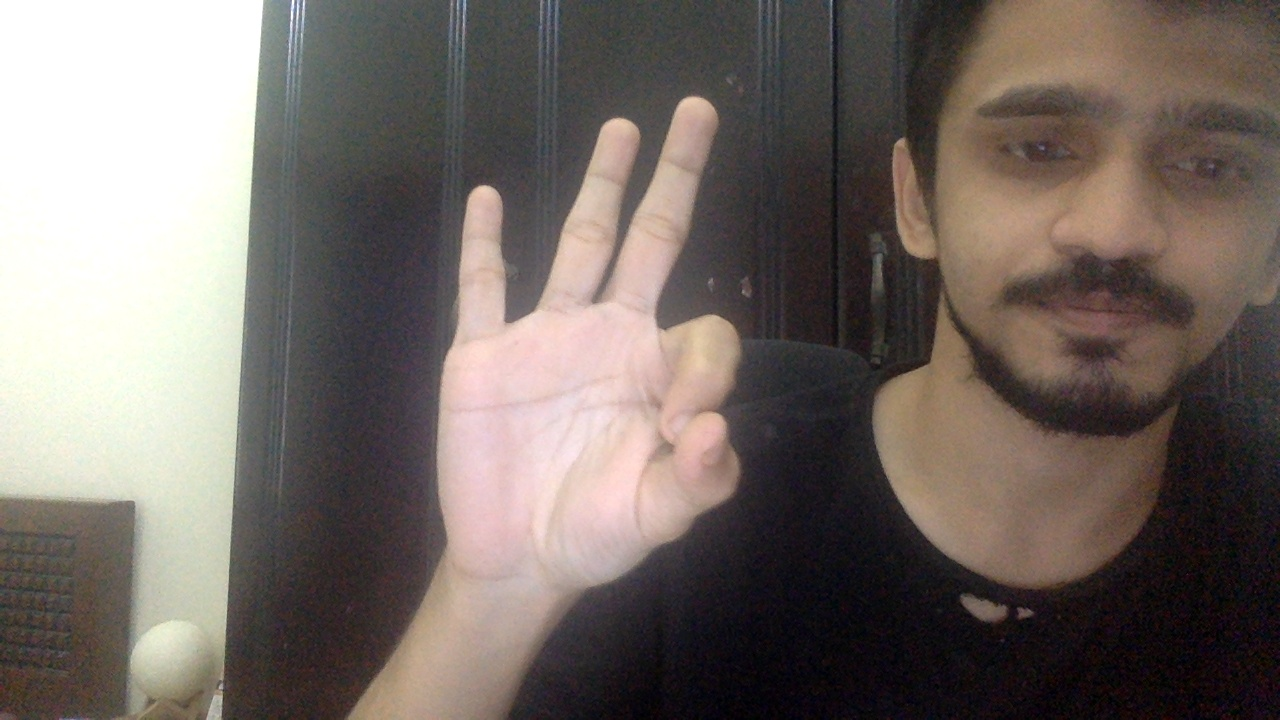perfect: (431, 93, 741, 594)
